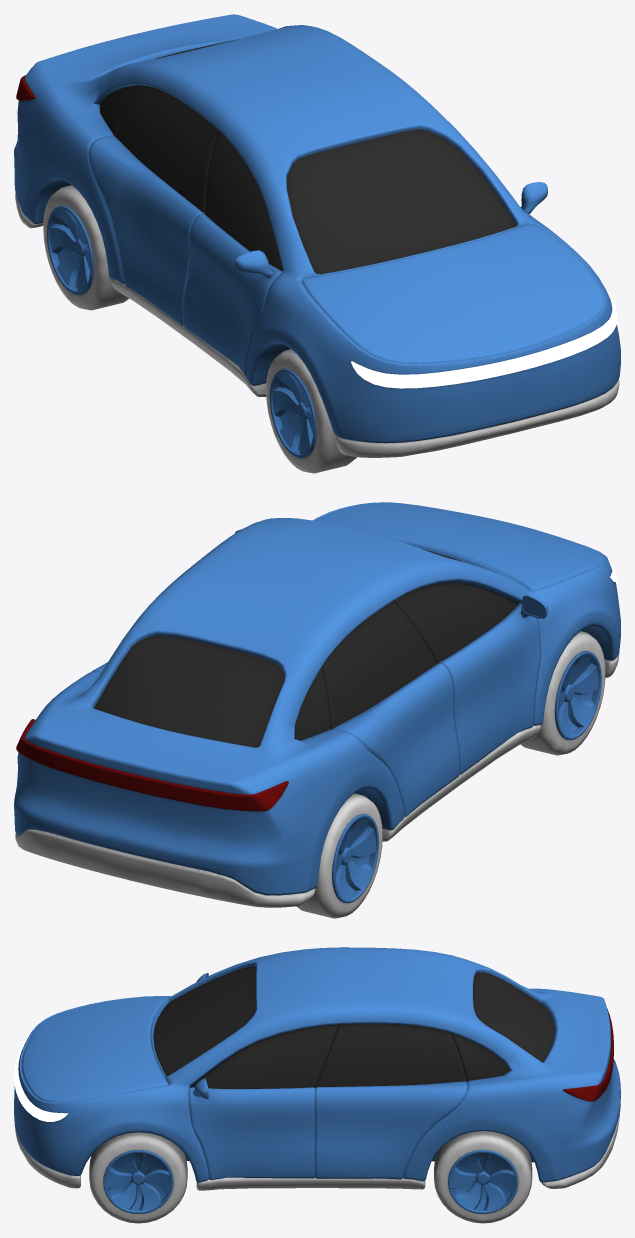
The model's file is mbx-car_ego_nav-blue.glb.
3 views of the same model, one above another, from view 1: azimuth 30°, elevation 25°; view 2: azimuth 150°, elevation 25°; view 3: azimuth 270°, elevation 25° (orthographic). The views are drawn at different scales.
Visible parts, largest first — view 1: mbx-car_ego_nav-blue; view 2: mbx-car_ego_nav-blue; view 3: mbx-car_ego_nav-blue.
Part boxes in pixels (x1,y1,x2,y2): mbx-car_ego_nav-blue: [14, 14, 620, 473]; mbx-car_ego_nav-blue: [14, 502, 620, 918]; mbx-car_ego_nav-blue: [14, 947, 620, 1223].
Size of the model in its own units: 19.35 by 15.22 by 42.19.
Materials: 5 (5 with a texture image).
